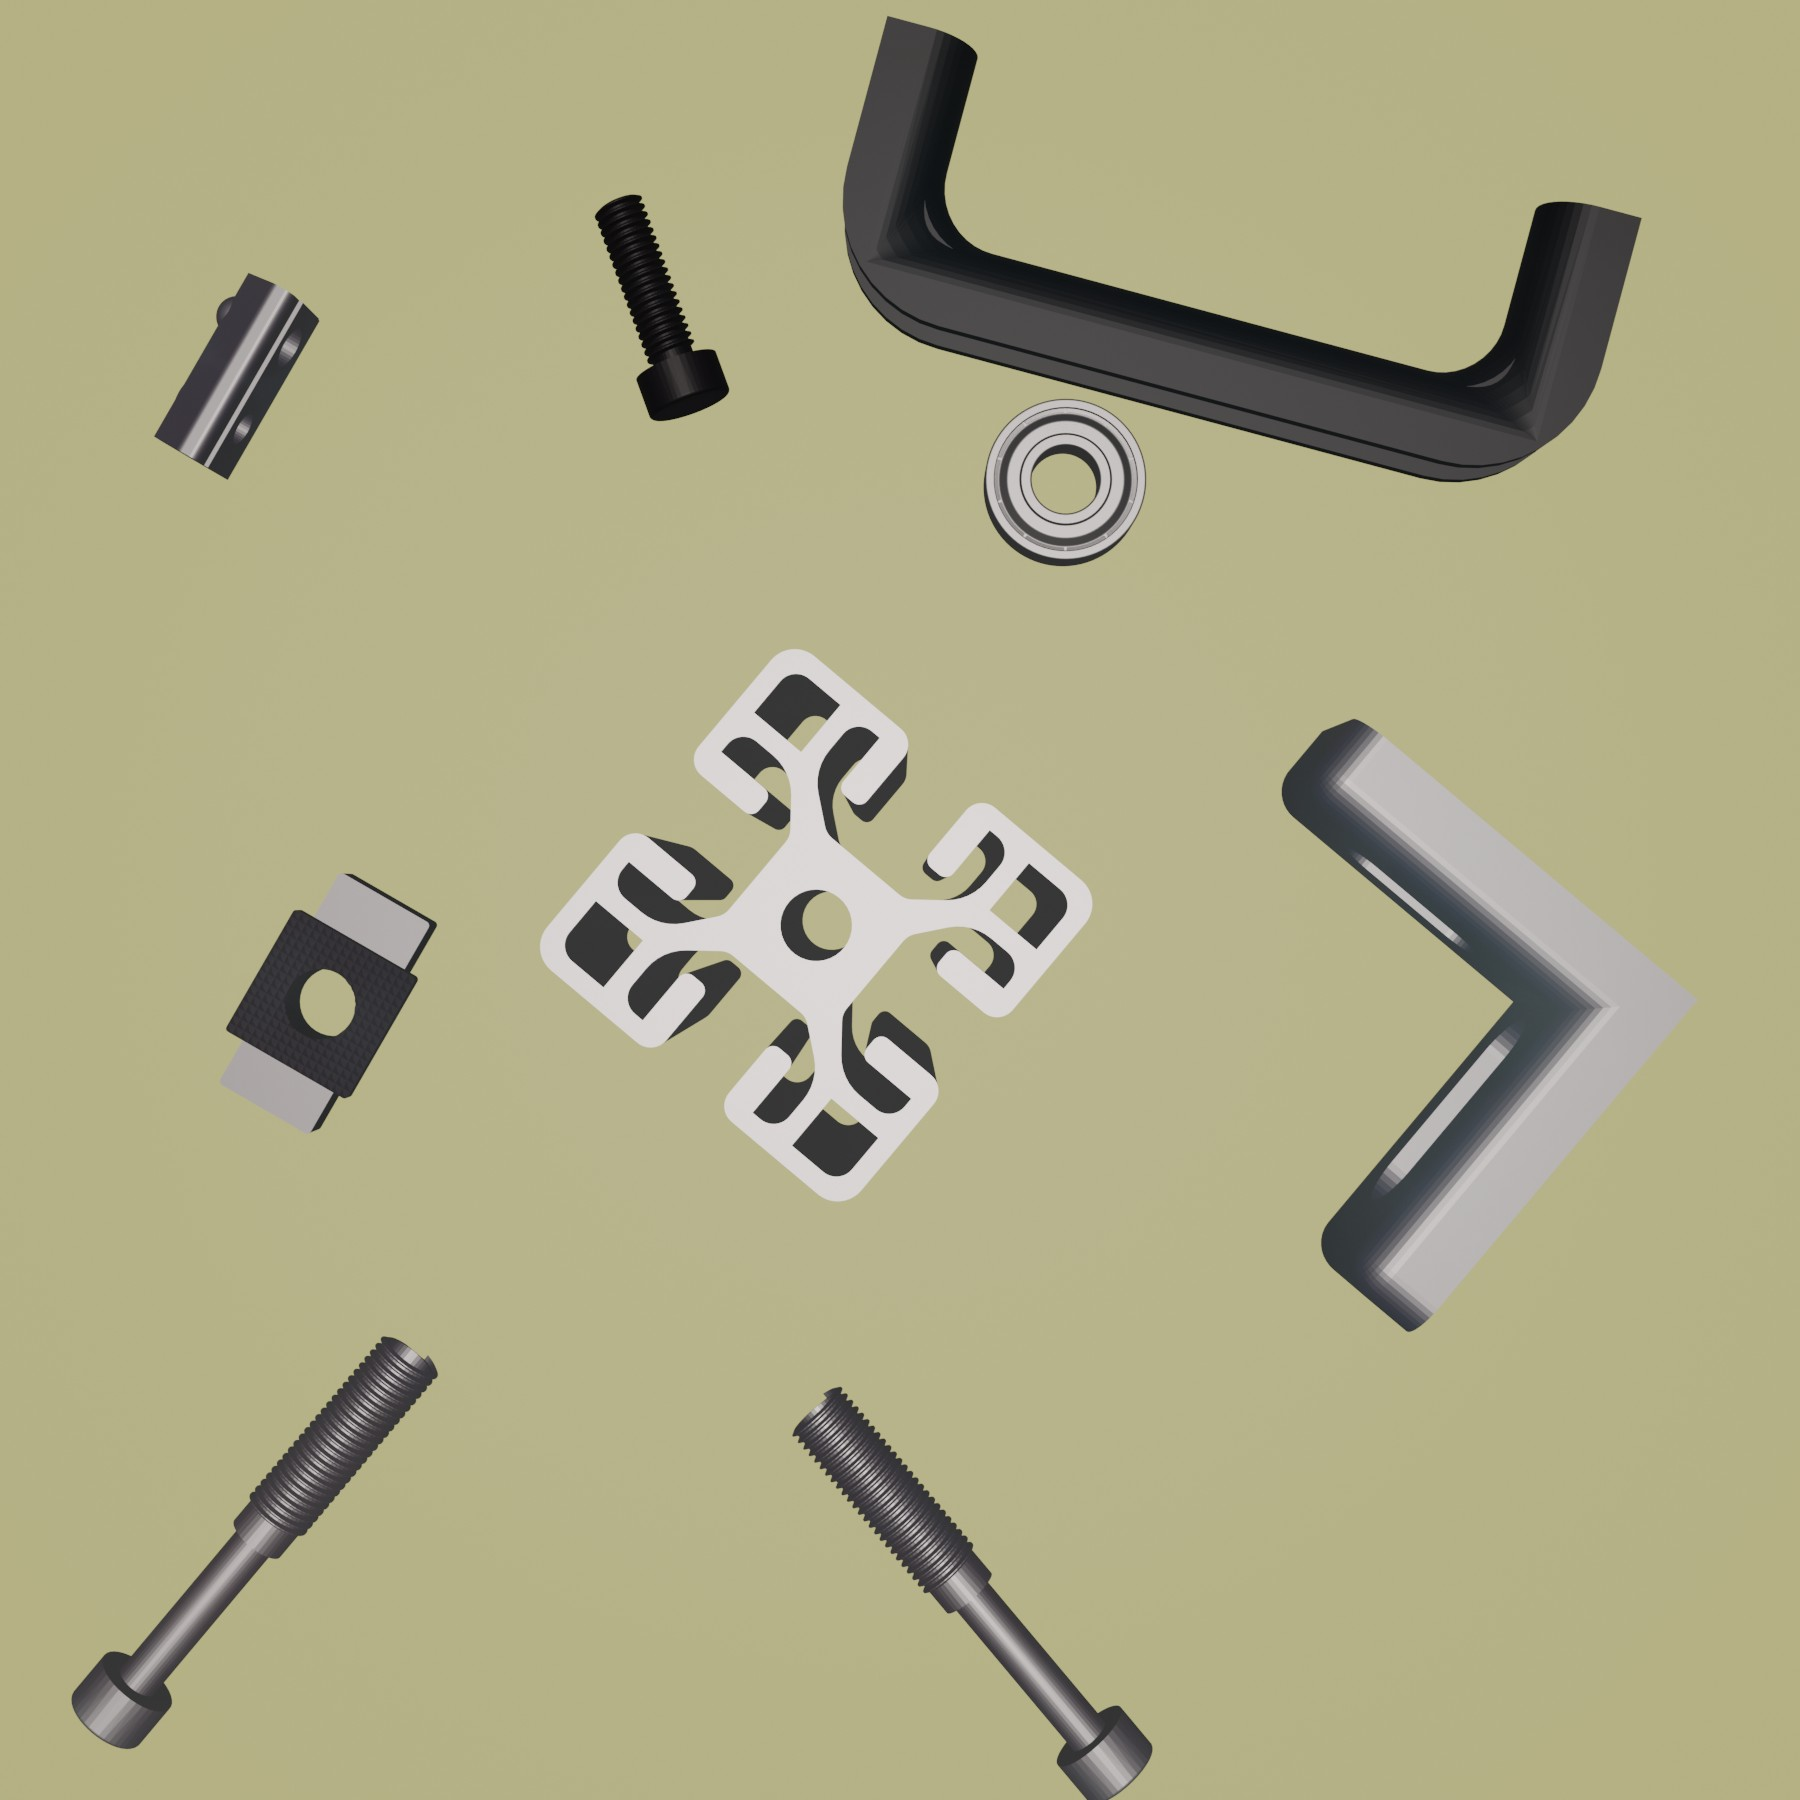Aluminium Extension: (536, 646, 1098, 1208)
Ball Bearing: (979, 396, 1151, 569)
Multiwinkel: (1277, 715, 1703, 1335)
Pull Handle: (839, 12, 1647, 485)
Shoulder Socket Head Cap Screw: (68, 1332, 440, 1749), (790, 1386, 1155, 1800)
Socket Head Cap Screw: (588, 191, 732, 425)
T Nut Square: (213, 869, 440, 1136)
T Spring Nut: (152, 270, 323, 481)
